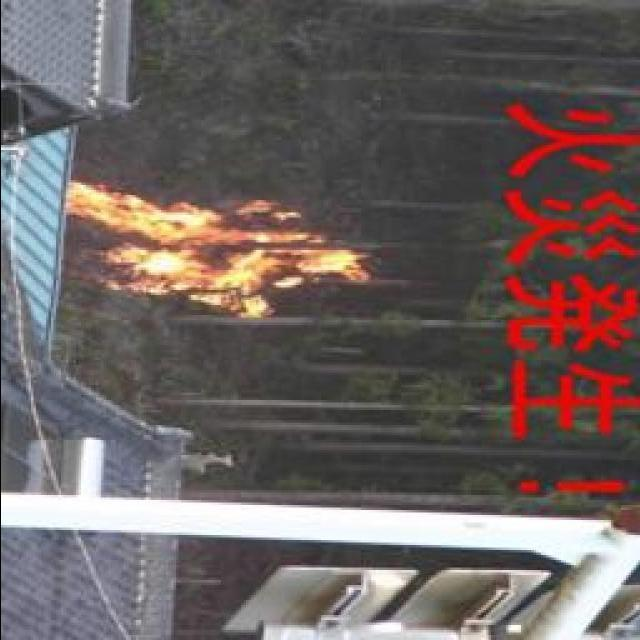Fire: (61, 188, 372, 327)
